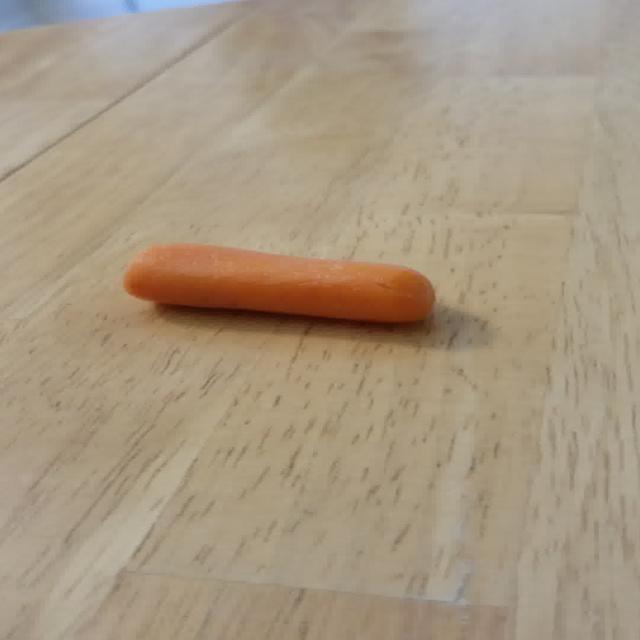carrot: (123, 244, 435, 322)
